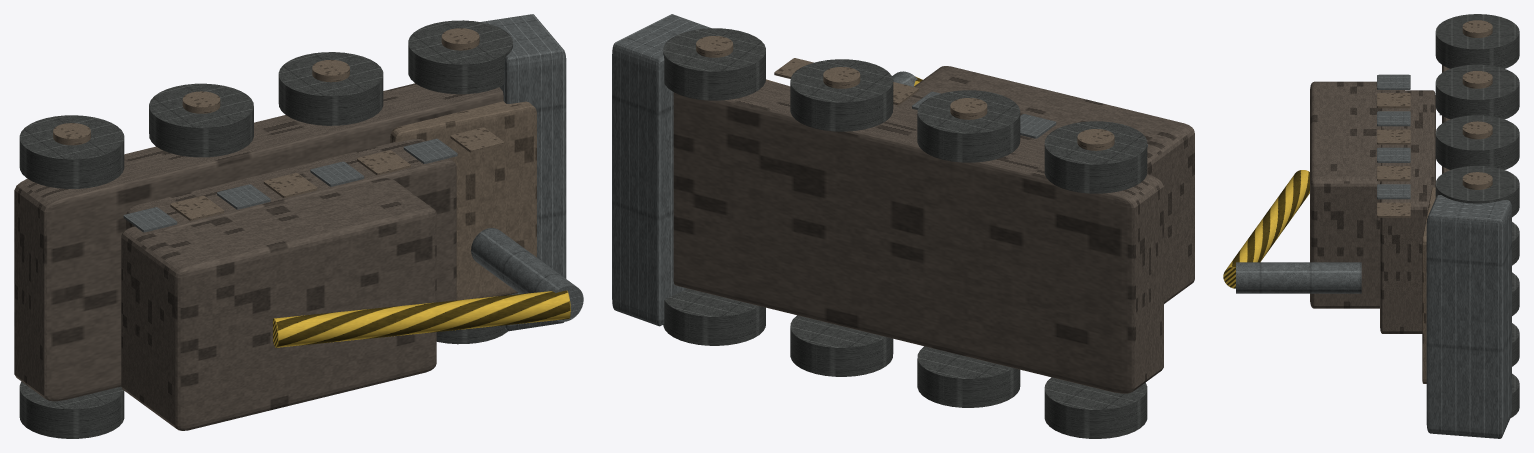
Rendered from d-u18-dominion-recovery-vehicle-lod0.glb.
The picture shows the model from 3 angles, left to right: view 1: azimuth 30°, elevation 25°; view 2: azimuth 150°, elevation 25°; view 3: azimuth 270°, elevation 25°; orthographic projection. The views are drawn at different scales.
Parts seen in each view (by area): view 1: recovery_superstructure, chassis_lower, chassis_nose, dozer_blade, service_boom, upper_hull, chassis_wheel_1_2, chassis_wheel_1_0, chassis_wheel_1_1, chassis_wheel_1_3, chassis_wheel_-1_0, winch (+13 smaller); view 2: chassis_lower, dozer_blade, recovery_superstructure, chassis_wheel_1_1, chassis_wheel_1_0, chassis_wheel_1_2, chassis_wheel_1_3, chassis_wheel_-1_0, chassis_wheel_-1_2, chassis_wheel_-1_1, chassis_wheel_-1_3, chassis_hub_1_1 (+5 smaller); view 3: dozer_blade, recovery_superstructure, upper_hull, winch, chassis_wheel_1_1, chassis_wheel_1_0, chassis_wheel_1_2, service_boom, chassis_wheel_1_3, chassis_nose, service_hatch_2, service_hatch_6 (+14 smaller).
Boxes of the visible parts, x1=… form: recovery_superstructure: x1=121, y1=178, x2=436, y2=430; chassis_lower: x1=14, y1=83, x2=503, y2=401; chassis_nose: x1=390, y1=101, x2=536, y2=300; dozer_blade: x1=480, y1=14, x2=566, y2=331; service_boom: x1=273, y1=290, x2=570, y2=347; upper_hull: x1=126, y1=139, x2=456, y2=302; chassis_wheel_1_2: x1=278, y1=52, x2=383, y2=125; chassis_wheel_1_0: x1=19, y1=115, x2=124, y2=188; chassis_wheel_1_1: x1=149, y1=83, x2=253, y2=157; chassis_wheel_1_3: x1=408, y1=20, x2=512, y2=94; chassis_wheel_-1_0: x1=19, y1=381, x2=124, y2=438; winch: x1=471, y1=228, x2=583, y2=321; chassis_lower: x1=673, y1=80, x2=1163, y2=393; dozer_blade: x1=612, y1=14, x2=711, y2=326; recovery_superstructure: x1=911, y1=66, x2=1194, y2=303; chassis_wheel_1_1: x1=917, y1=90, x2=1020, y2=162; chassis_wheel_1_0: x1=1044, y1=121, x2=1147, y2=193; chassis_wheel_1_2: x1=790, y1=59, x2=893, y2=131; chassis_wheel_1_3: x1=663, y1=28, x2=765, y2=100; chassis_wheel_-1_0: x1=1044, y1=377, x2=1147, y2=438; chassis_wheel_-1_2: x1=790, y1=315, x2=893, y2=376; chassis_wheel_-1_1: x1=917, y1=346, x2=1020, y2=407; chassis_wheel_-1_3: x1=663, y1=288, x2=765, y2=345; chassis_hub_1_1: x1=950, y1=98, x2=987, y2=119; dozer_blade: x1=1426, y1=195, x2=1511, y2=438; recovery_superstructure: x1=1310, y1=81, x2=1404, y2=308; upper_hull: x1=1380, y1=90, x2=1435, y2=333; winch: x1=1236, y1=262, x2=1361, y2=293; chassis_wheel_1_1: x1=1435, y1=64, x2=1519, y2=119; chassis_wheel_1_0: x1=1435, y1=14, x2=1519, y2=68; chassis_wheel_1_2: x1=1435, y1=115, x2=1519, y2=169; service_boom: x1=1223, y1=170, x2=1309, y2=288; chassis_wheel_1_3: x1=1435, y1=166, x2=1519, y2=217; chassis_nose: x1=1422, y1=187, x2=1435, y2=383; service_hatch_2: x1=1377, y1=111, x2=1410, y2=126; service_hatch_6: x1=1377, y1=184, x2=1410, y2=199.
Size of what is drawn, in the model's own units: 7.9 by 4.19 by 4.81.
Materials: 7 (7 with a texture image).
